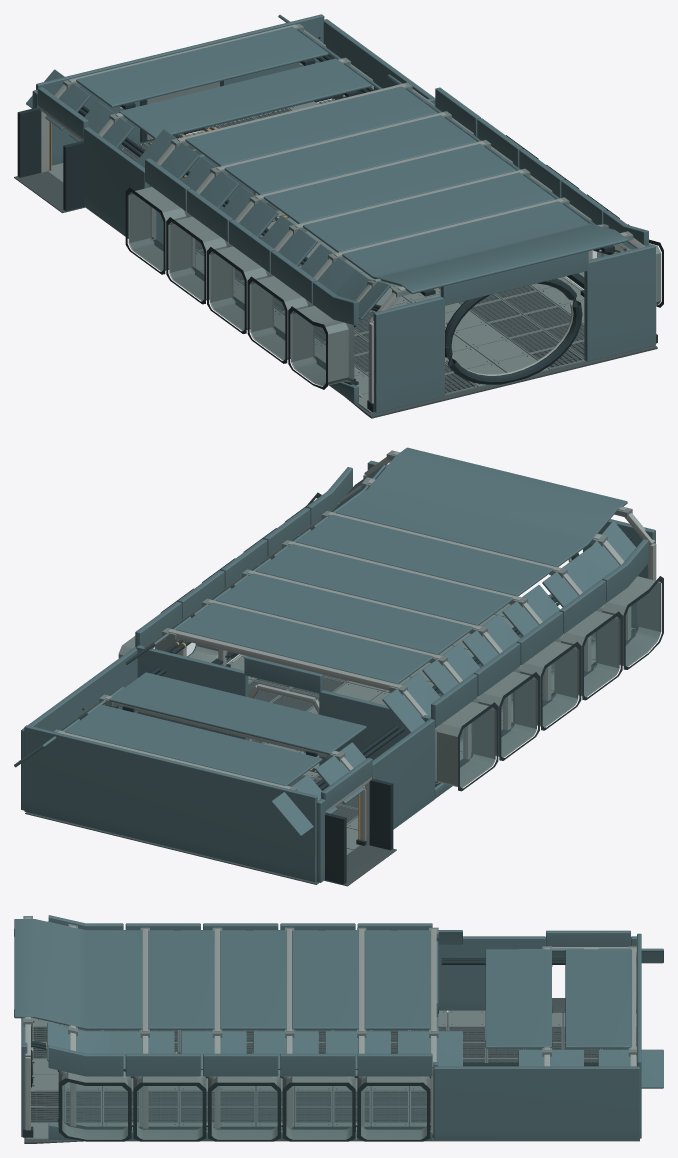
Rendered from Nereid_Interior.fbx.
3 views of the same model, one above another, from view 1: azimuth 30°, elevation 25°; view 2: azimuth 150°, elevation 25°; view 3: azimuth 270°, elevation 25° (orthographic). The views are drawn at different scales.
Parts seen in each view (by area): view 1: Interior_Nereid_Hull, Interior_Nereid_Steel, Interior_Nereid_Dark, Interior_Nereid_Grate, Interior_Nereid_Window, Interior_Nereid_Trim; view 2: Interior_Nereid_Hull, Interior_Nereid_Steel, Interior_Nereid_Trim, Interior_Nereid_Window, Interior_Nereid_Dark, Interior_Nereid_Grate; view 3: Interior_Nereid_Hull, Interior_Nereid_Window, Interior_Nereid_Grate, Interior_Nereid_Steel, Interior_Nereid_Trim, Interior_Nereid_Dark.
Boxes of the visible parts, x1,y1,x2,y2 form: Interior_Nereid_Hull: (26,14,655,413); Interior_Nereid_Steel: (48,23,661,413); Interior_Nereid_Dark: (17,37,663,412); Interior_Nereid_Grate: (14,108,657,418); Interior_Nereid_Window: (130,193,596,385); Interior_Nereid_Trim: (38,24,656,403); Interior_Nereid_Hull: (14,447,655,882); Interior_Nereid_Steel: (54,450,661,882); Interior_Nereid_Trim: (58,451,656,845); Interior_Nereid_Window: (153,582,659,787); Interior_Nereid_Dark: (82,492,663,884); Interior_Nereid_Grate: (25,631,595,886); Interior_Nereid_Hull: (14,915,663,1140); Interior_Nereid_Window: (62,1082,426,1138); Interior_Nereid_Grate: (24,998,639,1143); Interior_Nereid_Steel: (23,916,636,1139); Interior_Nereid_Trim: (21,917,636,1133); Interior_Nereid_Dark: (14,929,636,1141).
Bounding box in the file's own units: 13.93 × 4.82 × 25.23.
